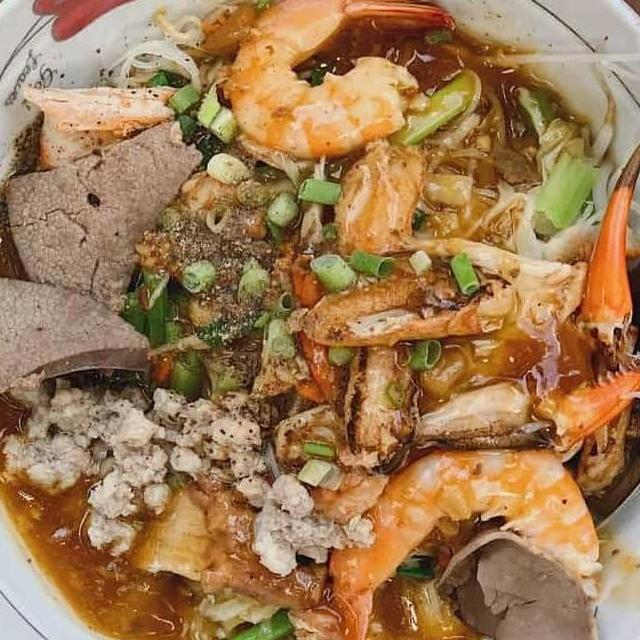gan: (0, 108, 206, 338), (0, 263, 156, 403), (423, 527, 605, 640)
thit bam: (0, 365, 380, 580)
thit heo: (11, 74, 190, 172)
tom: (321, 427, 608, 640), (216, 0, 463, 166)
